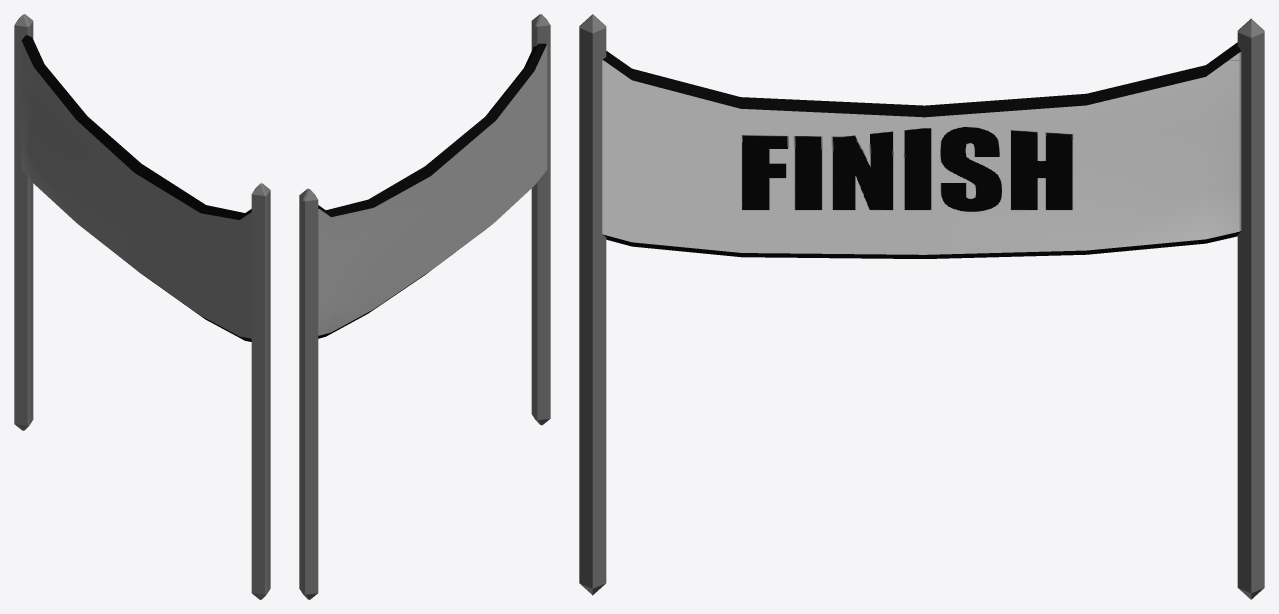
The model's file is Finish.fbx.
The picture shows the model from 3 angles, left to right: view 1: azimuth 30°, elevation 25°; view 2: azimuth 150°, elevation 25°; view 3: azimuth 270°, elevation 25°; orthographic projection. The views are drawn at different scales.
Visible parts, largest first — view 1: pCube3, pCube1, pCube2; view 2: pCube3, pCube2, pCube1; view 3: pCube3, pCube1, pCube2.
Part boxes in pixels (bbox=[...]): pCube3: bbox=[21, 35, 251, 341]; pCube1: bbox=[251, 183, 270, 599]; pCube2: bbox=[14, 14, 33, 430]; pCube3: bbox=[318, 43, 547, 338]; pCube2: bbox=[299, 188, 318, 599]; pCube1: bbox=[531, 14, 550, 425]; pCube3: bbox=[602, 42, 1241, 258]; pCube1: bbox=[579, 14, 606, 595]; pCube2: bbox=[1237, 18, 1264, 599].
Bounding box in the file's own units: 0.4892 × 9.37 × 9.95.
Materials: 4 (1 with a texture image).
